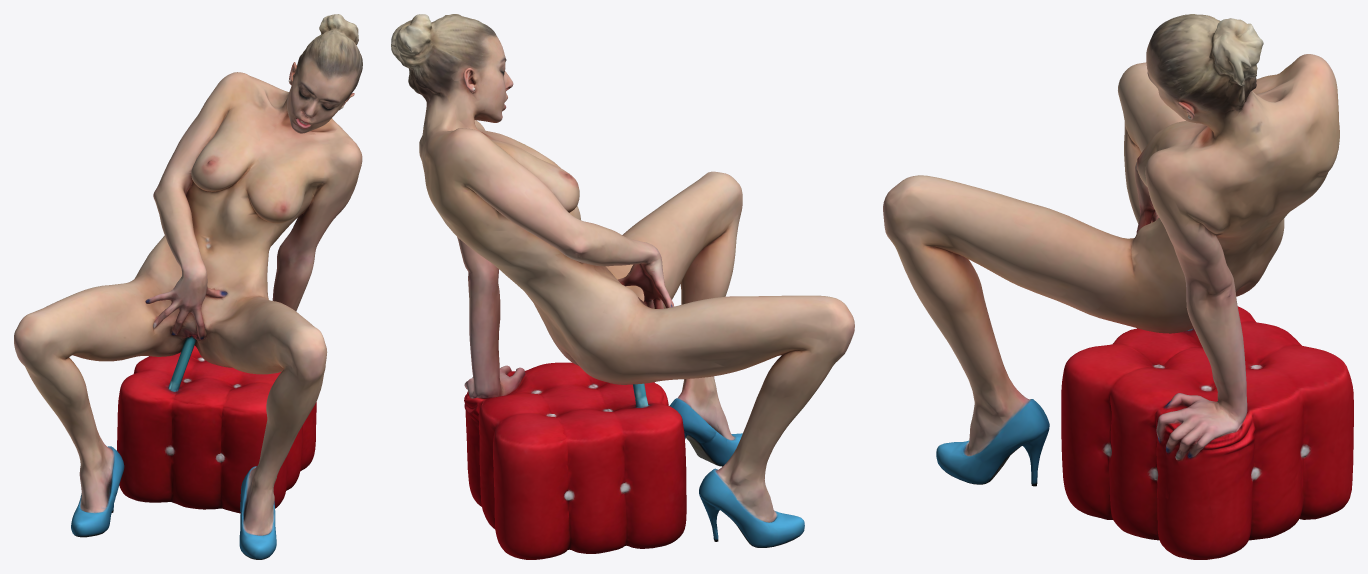
File: nsC001xf.glb
3 renders of one model, left to right at view 1: azimuth 30°, elevation 25°; view 2: azimuth 150°, elevation 25°; view 3: azimuth 270°, elevation 25°, orthographic. The views are drawn at different scales.
Parts seen in each view (by area): view 1: Atlas1.003; view 2: Atlas1.003; view 3: Atlas1.003.
Boxes of the visible parts, box(x1,y1,x2,y2) form: Atlas1.003: box(14, 14, 362, 559); Atlas1.003: box(391, 14, 854, 559); Atlas1.003: box(883, 14, 1353, 559).
Bounding box in the file's own units: 1.17 × 1.26 × 0.9411.
1 material, 1 textured.
